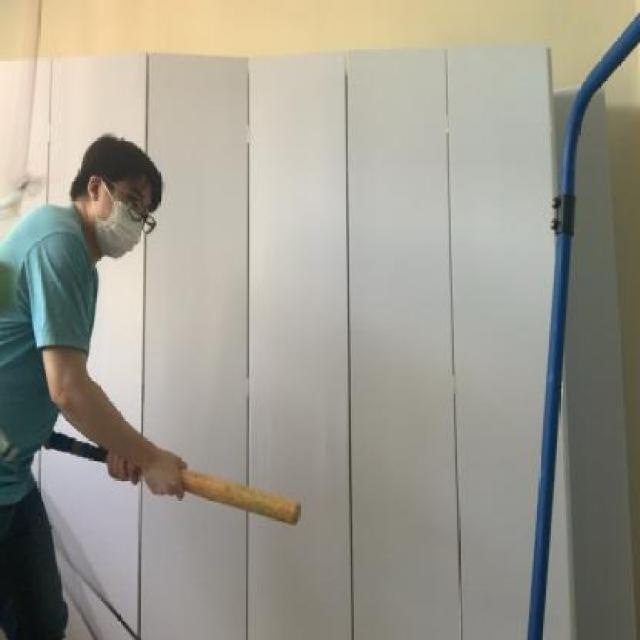baseball: (0, 250, 25, 328)
